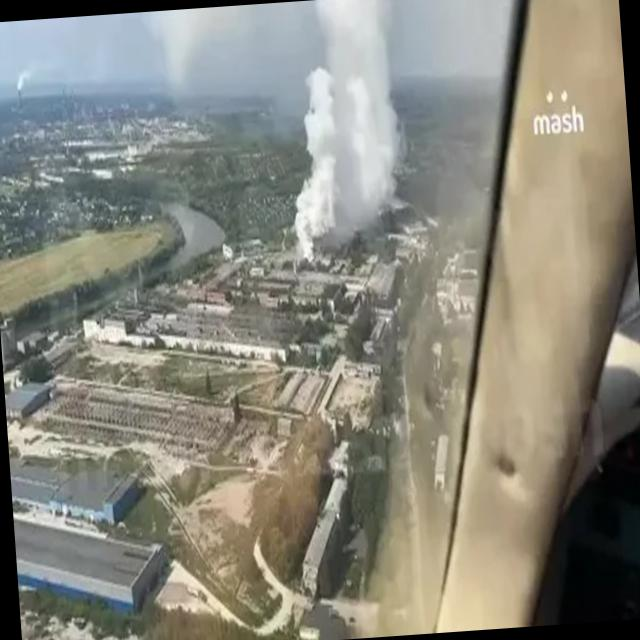Smoke: (278, 0, 419, 260)
